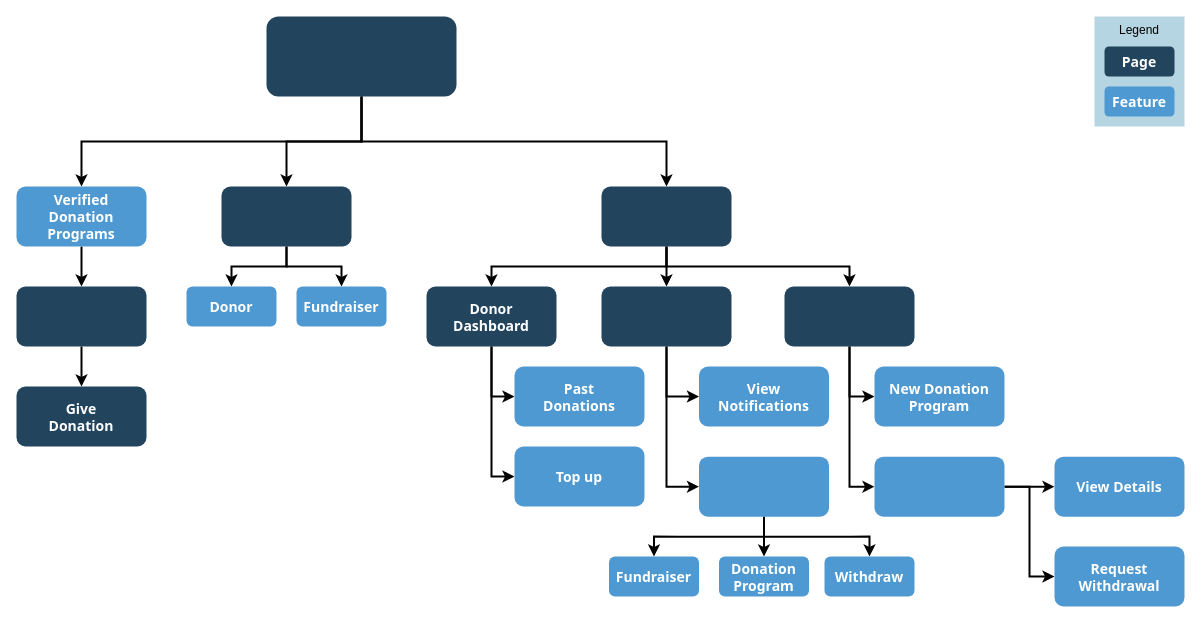
This 1201x623 diagram has some shape labels left out. Each missing label, with the centre of its shape:
"Administration Dashboard" belongs at point (666, 316).
"Donation Program Details" belongs at point (81, 316).
"Fundraiser Dashboard" belongs at point (849, 316).
"Homepage" belongs at point (361, 56).
"Login" belongs at point (666, 216).
"Register" belongs at point (286, 216).
"Verify / Reject" belongs at point (763, 486).
"View My Donation Programs" belongs at point (939, 486).
